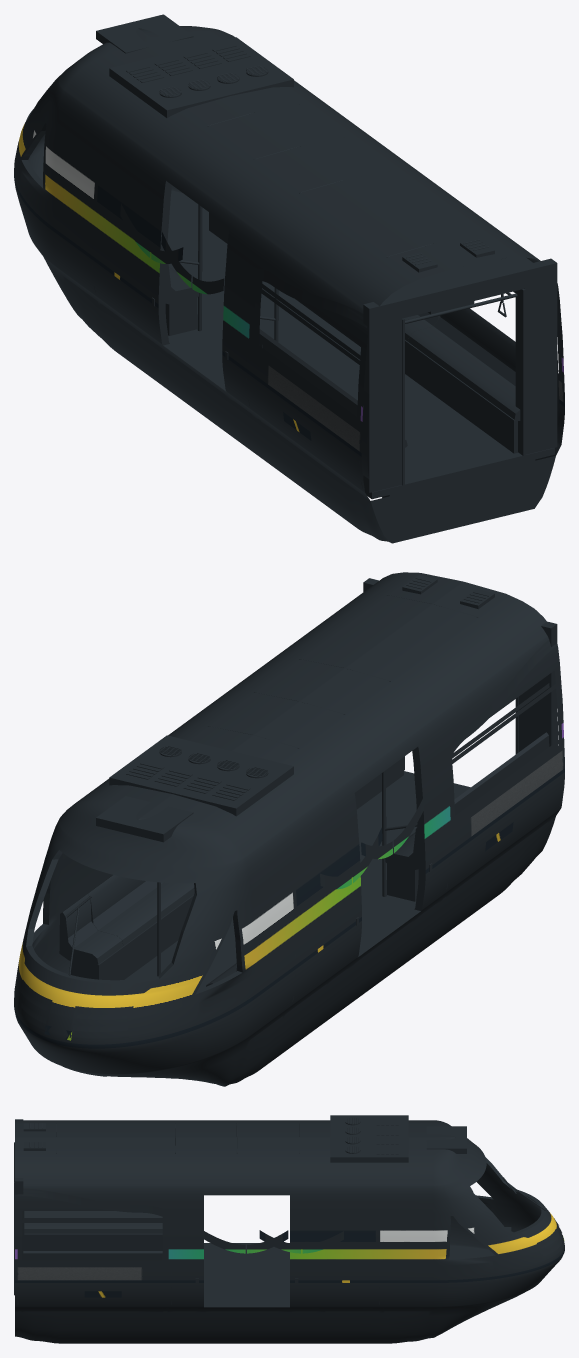
Rendered from end_car_wave.obj.
3 renders of one model, top to bottom at view 1: azimuth 30°, elevation 25°; view 2: azimuth 150°, elevation 25°; view 3: azimuth 270°, elevation 25°, orthographic. The views are drawn at different scales.
Parts seen in each view (by area): view 1: shell, salon, wave_window; view 2: shell, salon, wave_window; view 3: shell, salon, wave_window, wave_door_r_rear, wave_flipped_door_l_rear, wave_flipped_door_l_front, wave_door_r_front.
Part boxes in pixels (x1,y1,x2,y2): shell: (14, 14, 564, 543); salon: (21, 109, 559, 499); wave_window: (252, 268, 367, 327); shell: (14, 572, 564, 1086); salon: (26, 578, 558, 994); wave_window: (447, 639, 555, 761); shell: (15, 1115, 564, 1343); salon: (14, 1119, 545, 1305); wave_window: (17, 1188, 168, 1218); wave_door_r_rear: (204, 1231, 245, 1253); wave_flipped_door_l_rear: (302, 1231, 343, 1253); wave_flipped_door_l_front: (259, 1230, 300, 1253); wave_door_r_front: (247, 1230, 288, 1253).
Bounding box in the file's own units: 2.42 × 3.08 × 8.31.
